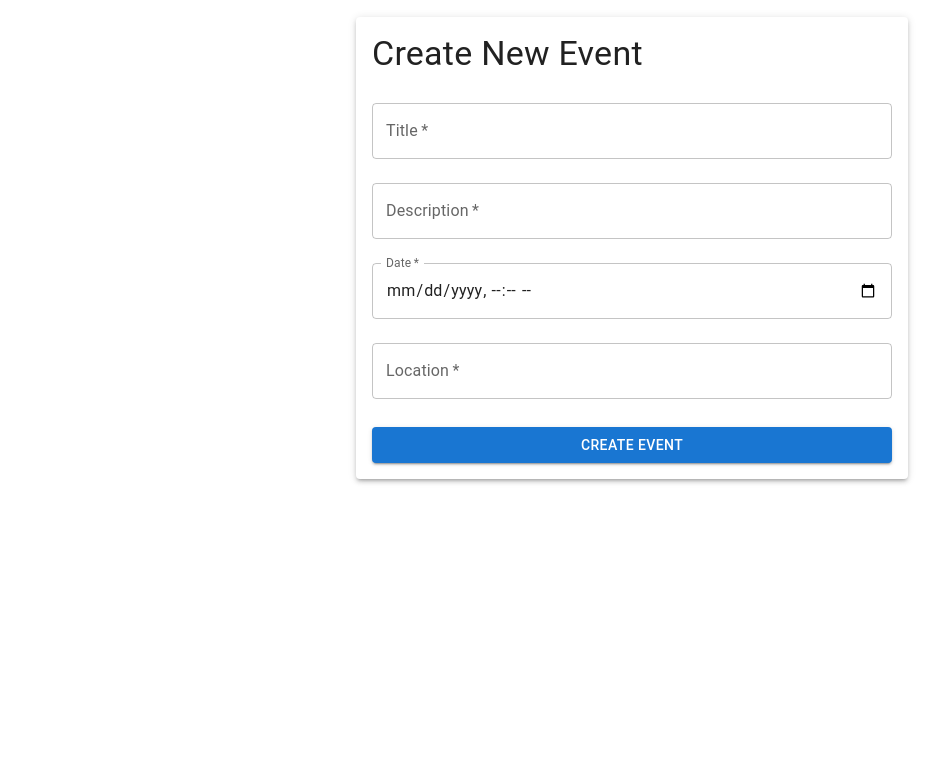
Test: renders CreateEvent component and submits the form
The width and height of the screenshot is (928, 770).
Type "New Event" into the field labelled "Title *" at (632,131), box [372, 103, 892, 159]
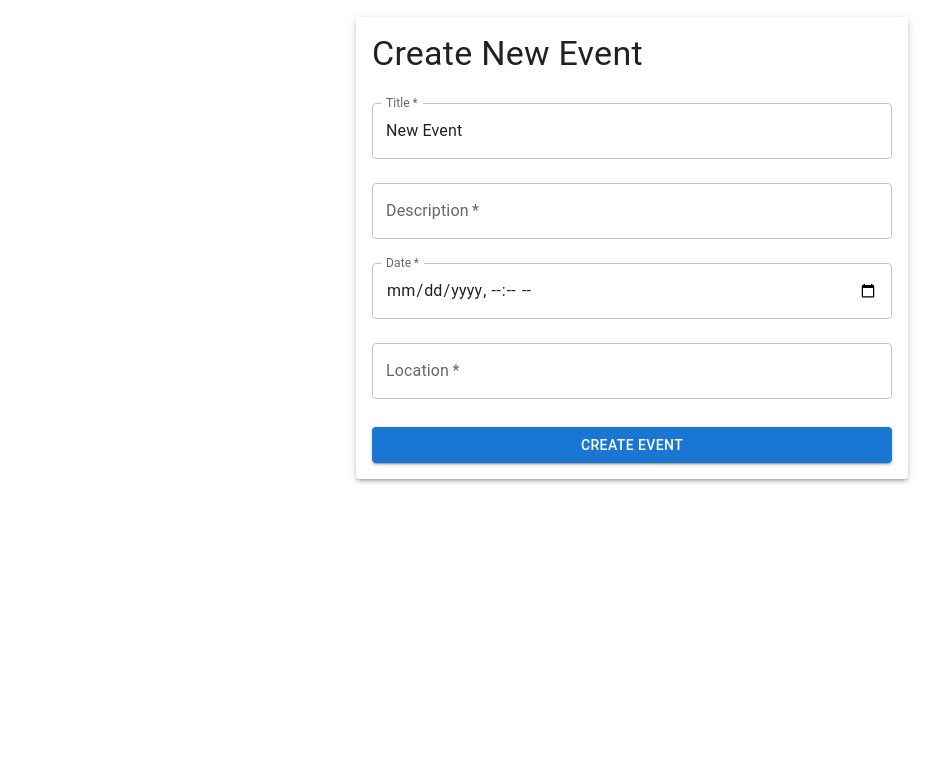
Type "Event Description" into the field labelled "Description *" at (632,211), box [372, 183, 892, 239]
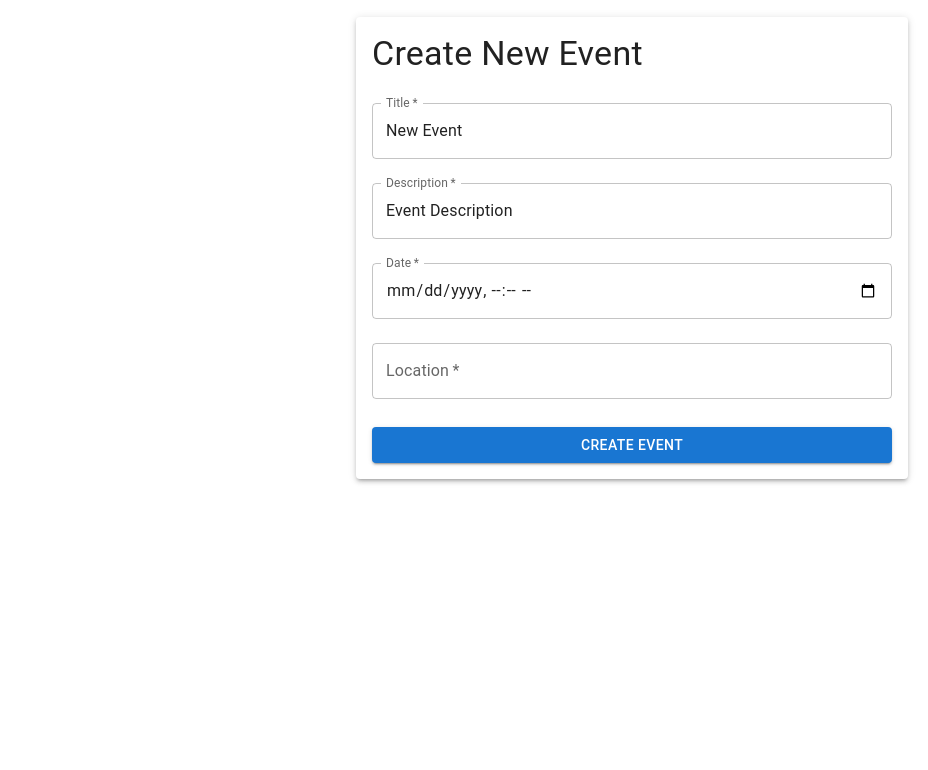
Type "2024-08-30T10:00" into the field labelled "Date *" at (632,291), box [372, 263, 892, 319]
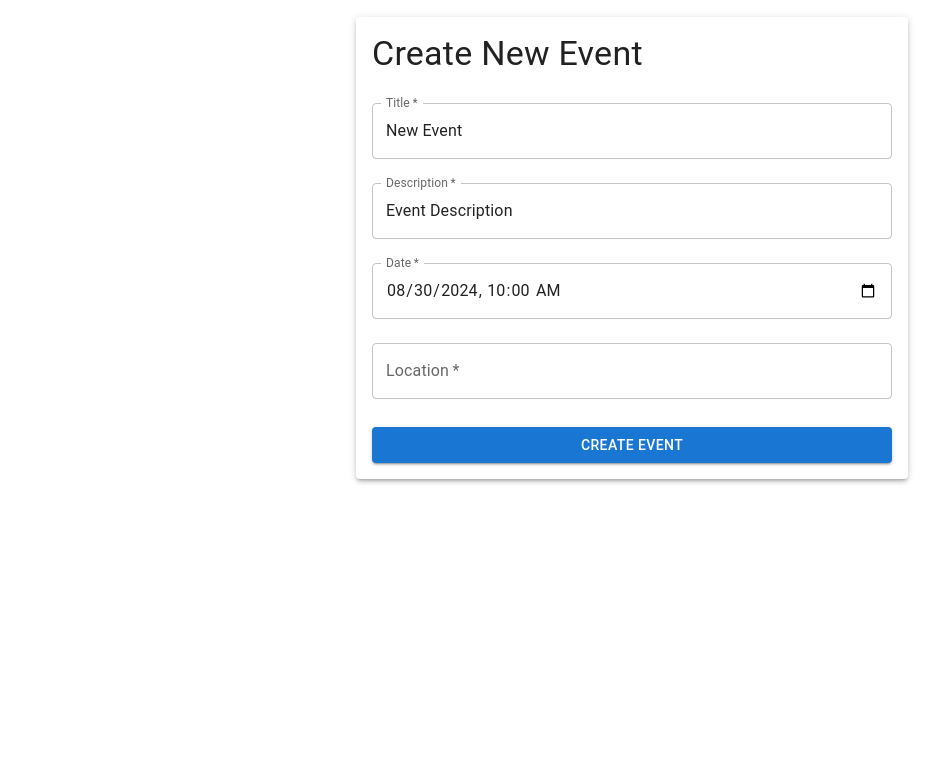
Type "Event Location" into the field labelled "Location *" at (632,371), box [372, 343, 892, 399]
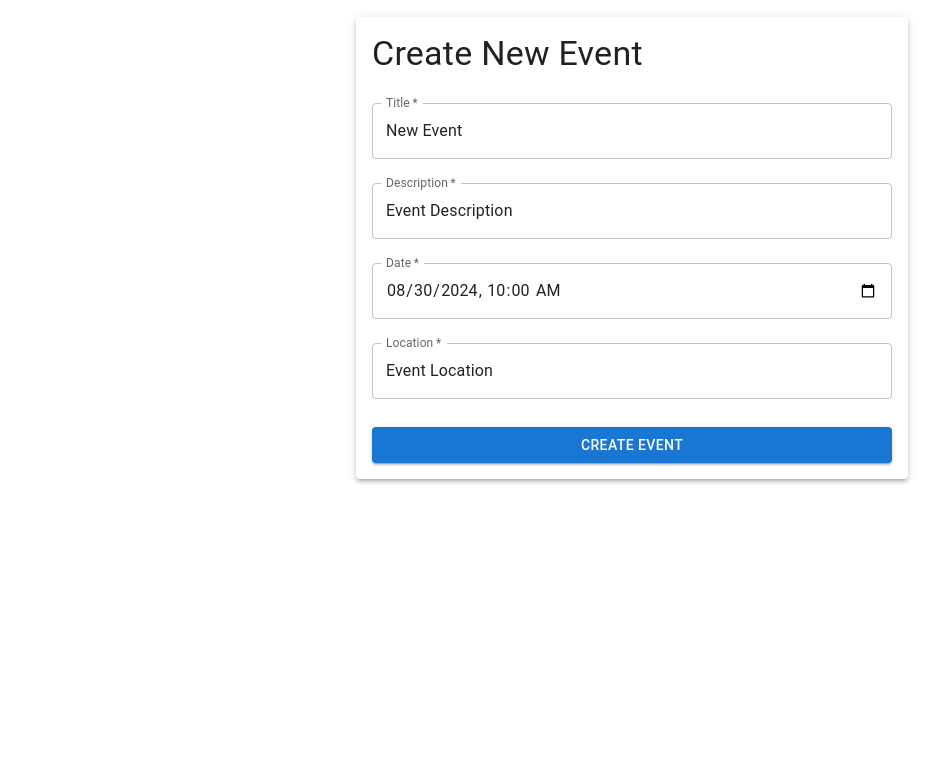
Click the button "Create Event" at (632,445), box [372, 427, 892, 463]
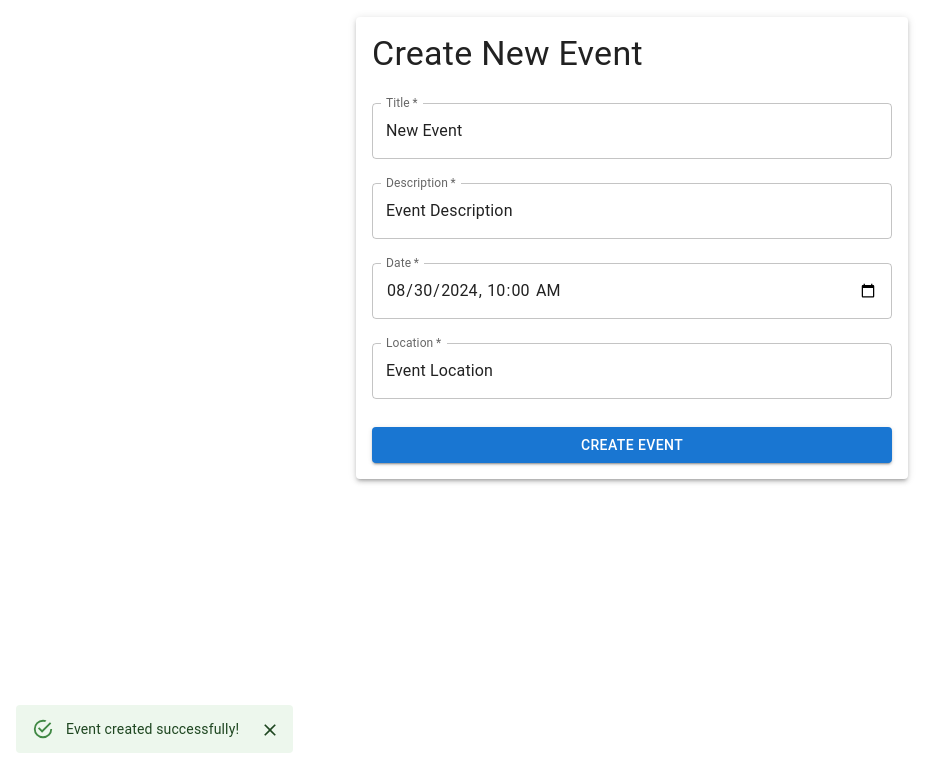
Expected: the text "Event created successfully!" is shown, [66, 721, 239, 737]
